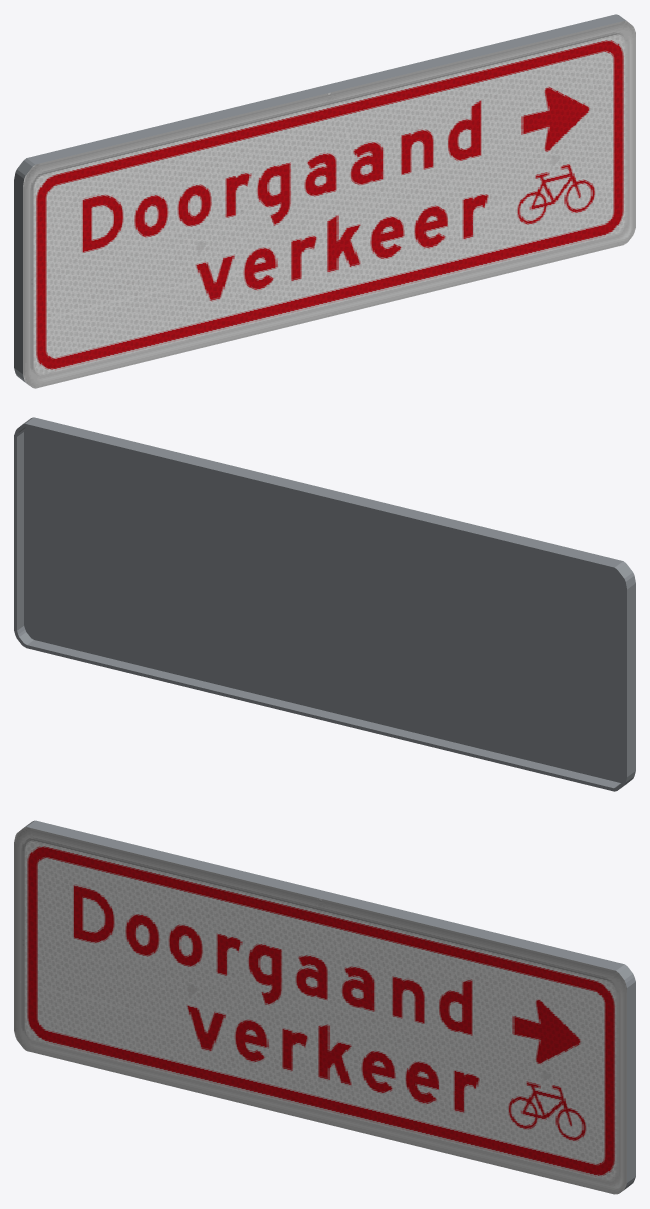
3 renders of one model, top to bottom at view 1: azimuth 30°, elevation 25°; view 2: azimuth 150°, elevation 25°; view 3: azimuth 330°, elevation 25°, orthographic.
Parts seen in each view (by area): view 1: cat_1391f4f4b2f30de7; view 2: cat_1391f4f4b2f30de7; view 3: cat_1391f4f4b2f30de7.
Boxes of the visible parts, <box> form: cat_1391f4f4b2f30de7: <box>14,14,635,388</box>; cat_1391f4f4b2f30de7: <box>14,417,635,791</box>; cat_1391f4f4b2f30de7: <box>14,820,635,1194</box>.
Bounding box in the file's own units: 0.6 × 0.015 × 0.2095.
2 materials, 1 textured.
